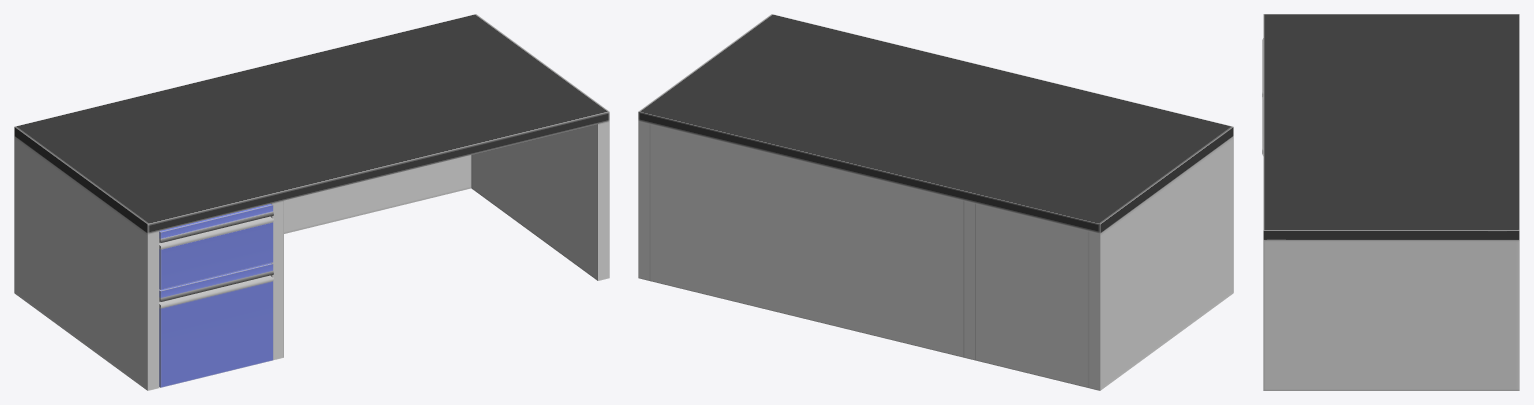
File: Desk01_ver02.fbx
3 renders of one model, left to right at view 1: azimuth 30°, elevation 25°; view 2: azimuth 150°, elevation 25°; view 3: azimuth 270°, elevation 25°, orthographic. The views are drawn at different scales.
Visible parts, largest first — view 1: pCube13; view 2: pCube13; view 3: pCube13.
Part boxes in pixels (x1,y1,x2,y2): pCube13: (14,14,609,390); pCube13: (638,14,1233,390); pCube13: (1262,14,1519,390).
Bounding box in the file's own units: 4000 × 1380 × 2010.
Materials: 3 (3 with a texture image).
